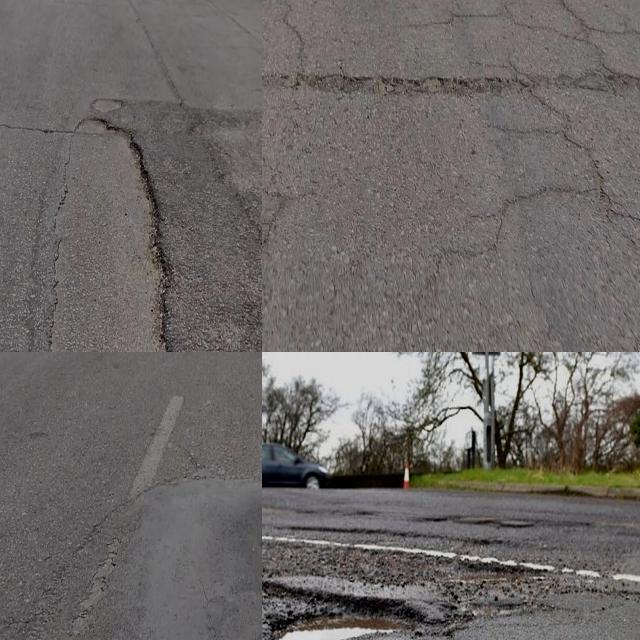Pothole: (49, 116, 173, 352), (279, 616, 420, 640), (89, 97, 124, 112)
